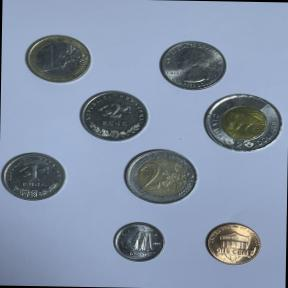coin: (200, 91, 288, 156), (119, 147, 201, 207), (76, 86, 153, 146), (157, 37, 230, 94), (21, 33, 94, 88), (202, 218, 265, 271), (108, 218, 170, 266)
